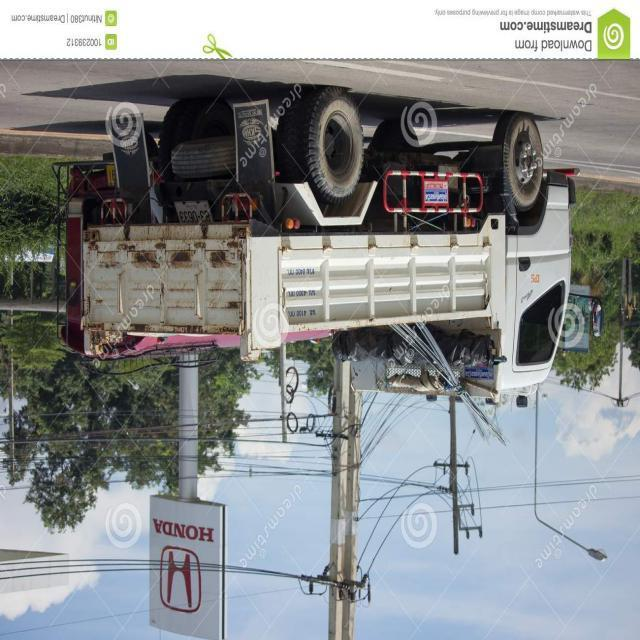truck: (56, 90, 578, 444)
